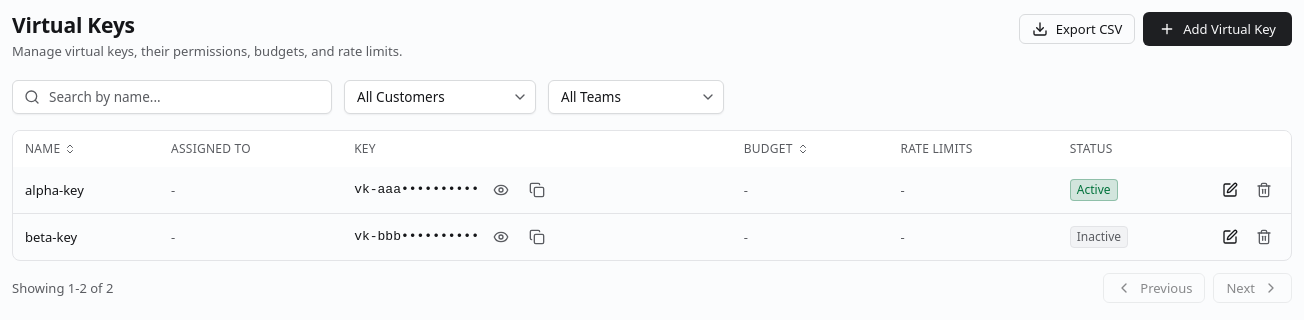
Test: VirtualKeysView list › renders status pills and filters by name
Check: the text "alpha-key" is shown, box left=25, top=181, right=84, bottom=199
Check: the text "beta-key" is shown, box left=25, top=228, right=77, bottom=246
Note: Search narrows the visible rows by name.
Type "alpha" into the field named "Search by key name". click: (172, 97)
box: left=12, top=80, right=332, bottom=114
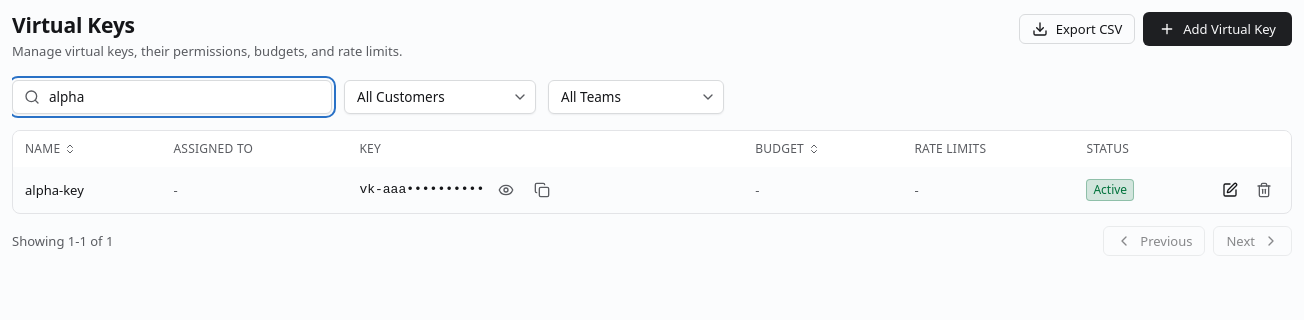
Check: the text "alpha-key" is shown, box left=25, top=181, right=84, bottom=199
Check: the text "beta-key" is gone
